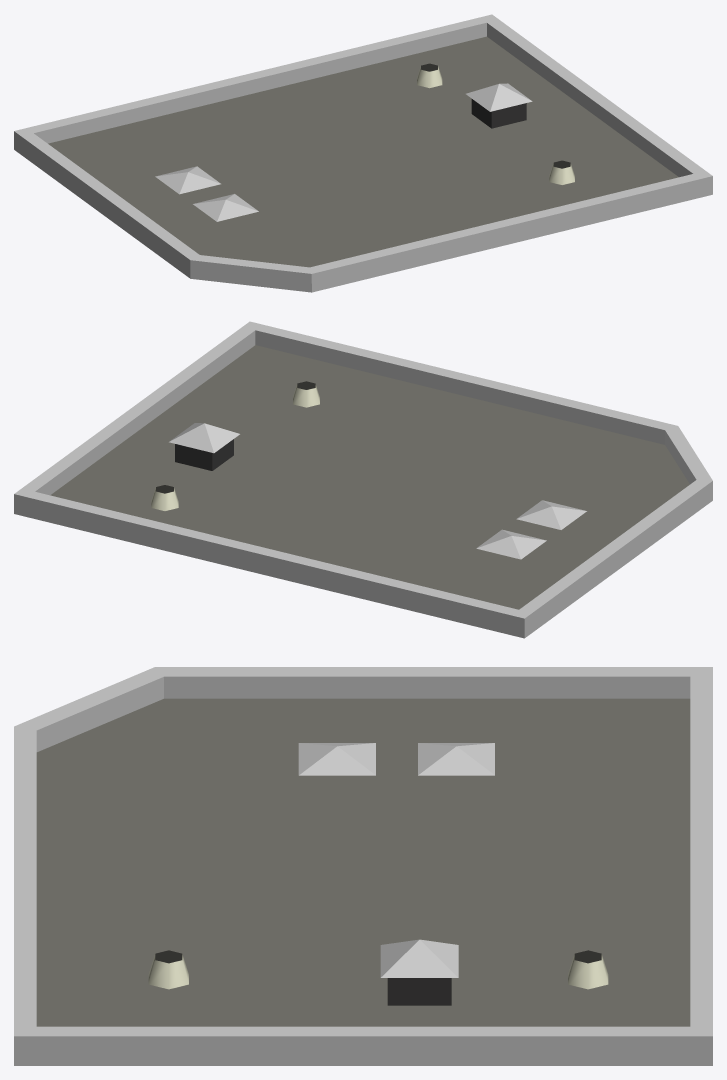
Rendered from building5_top.fbx.
3 views of the same model, one above another, from view 1: azimuth 30°, elevation 25°; view 2: azimuth 150°, elevation 25°; view 3: azimuth 270°, elevation 25° (orthographic). The views are drawn at different scales.
Visible parts, largest first — view 1: building5_top; view 2: building5_top; view 3: building5_top.
Boxes of the visible parts, left/top/right/bottom form: building5_top: left=14, top=14, right=712, bottom=292; building5_top: left=14, top=321, right=712, bottom=638; building5_top: left=14, top=667, right=712, bottom=1065.
Size of the model in its own units: 747 by 597 by 56.71.
